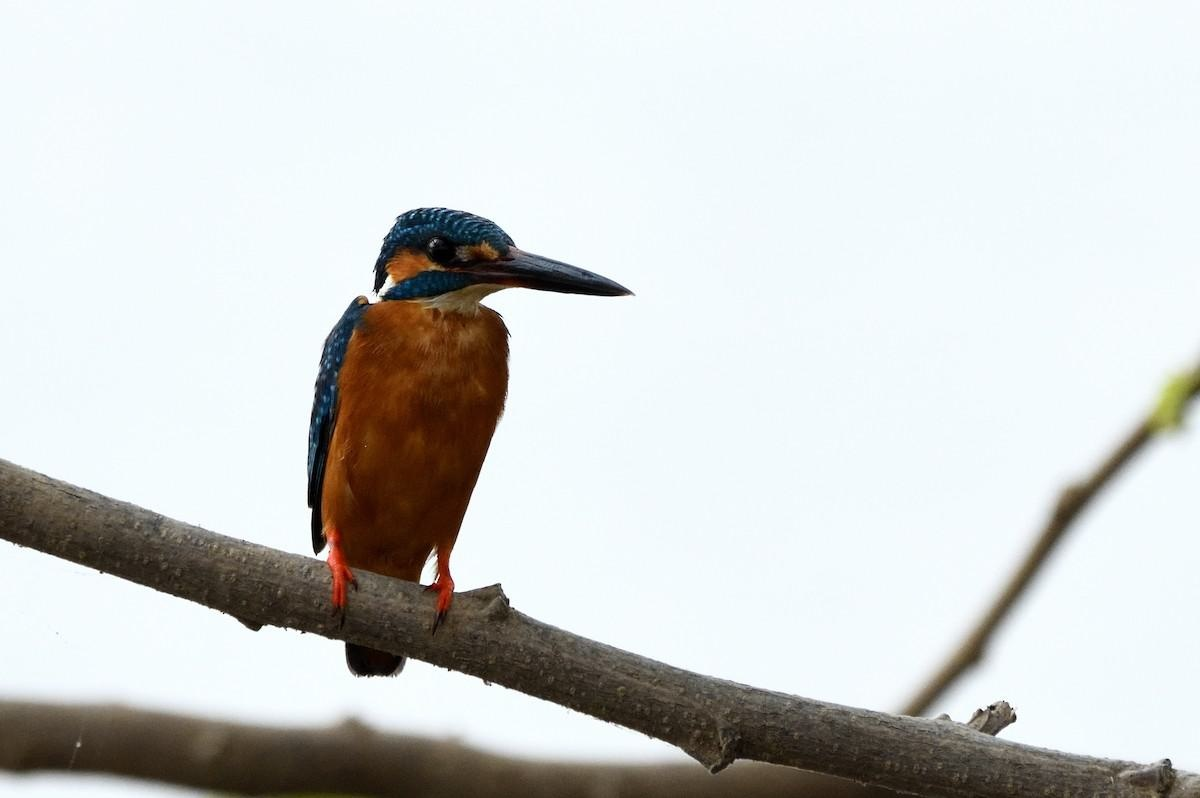kingfisher: (288, 193, 651, 663)
